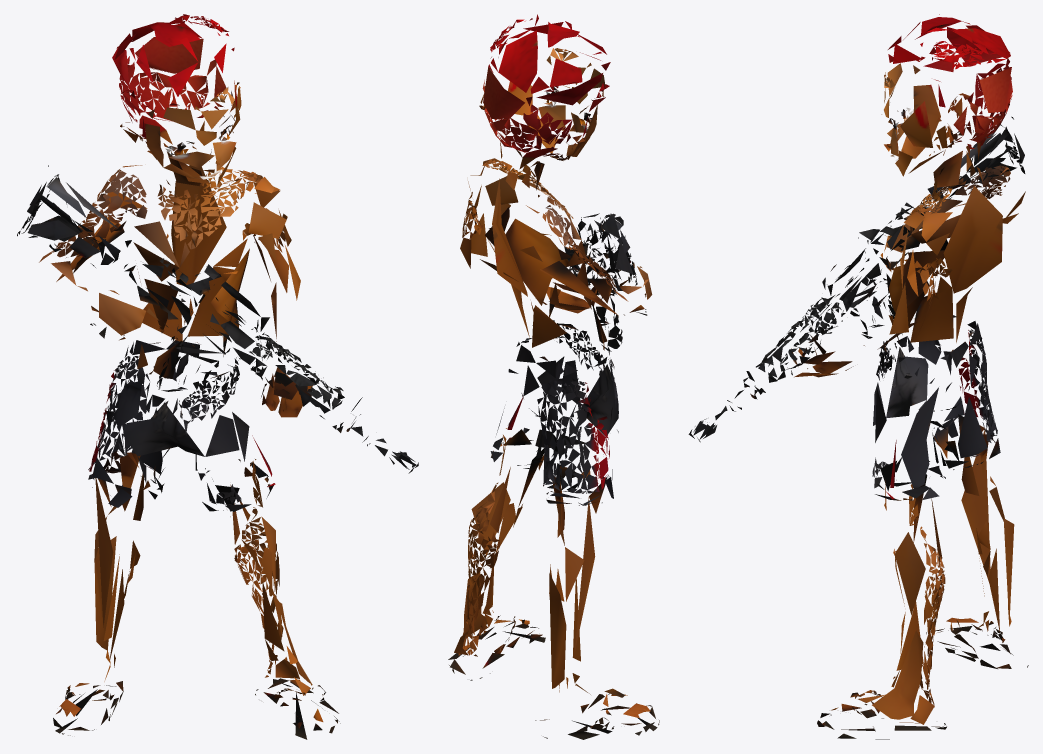
File: demo_gladiator_01.glb
The picture shows the model from 3 angles, left to right: view 1: azimuth 30°, elevation 25°; view 2: azimuth 150°, elevation 25°; view 3: azimuth 270°, elevation 25°; orthographic projection. The views are drawn at different scales.
Parts seen in each view (by area): view 1: node_0; view 2: node_0; view 3: node_0.
Part boxes in pixels (bbox=[...]): node_0: bbox=[17, 14, 418, 739]; node_0: bbox=[448, 14, 659, 739]; node_0: bbox=[688, 14, 1028, 739].
Size of the model in its own units: 0.3979 by 1.09 by 0.5031.
Materials: 1 (1 with a texture image).
